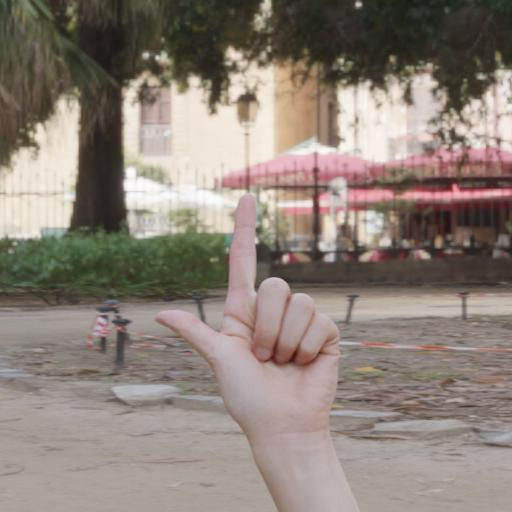L: (148, 188, 362, 444)
